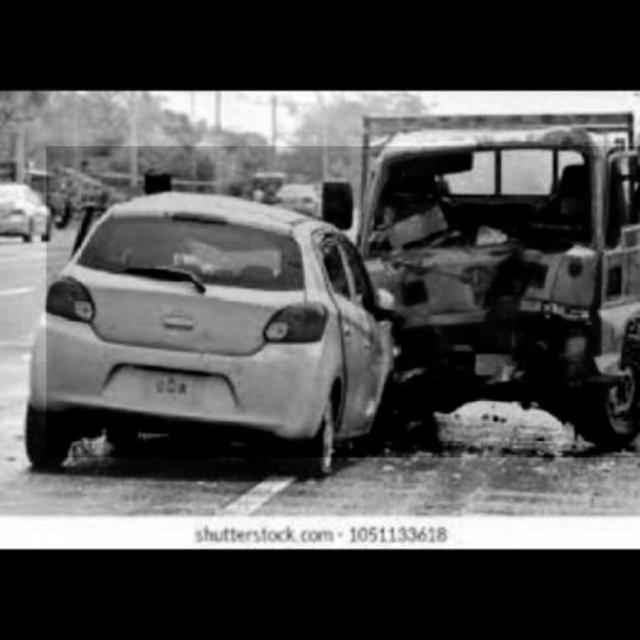accident: (47, 147, 640, 458)
